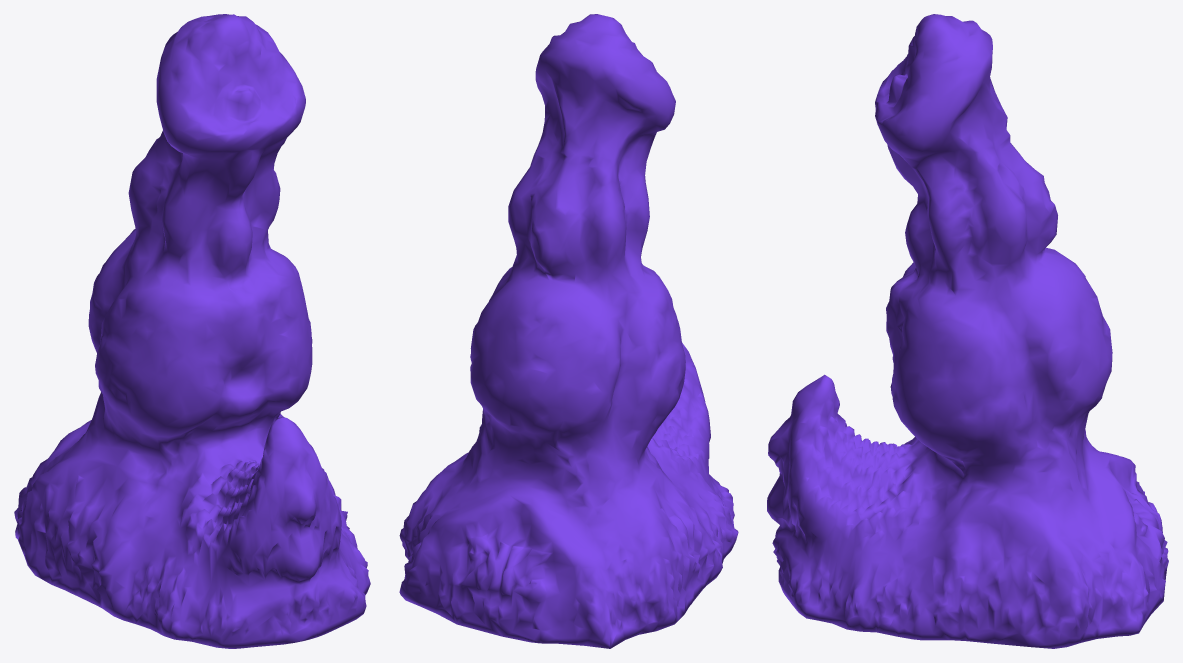
File: large-flat-ar.glb
The picture shows the model from 3 angles, left to right: view 1: azimuth 30°, elevation 25°; view 2: azimuth 150°, elevation 25°; view 3: azimuth 270°, elevation 25°; orthographic projection. The views are drawn at different scales.
Bounding box in the file's own units: 0.1516 × 0.2933 × 0.1888.
